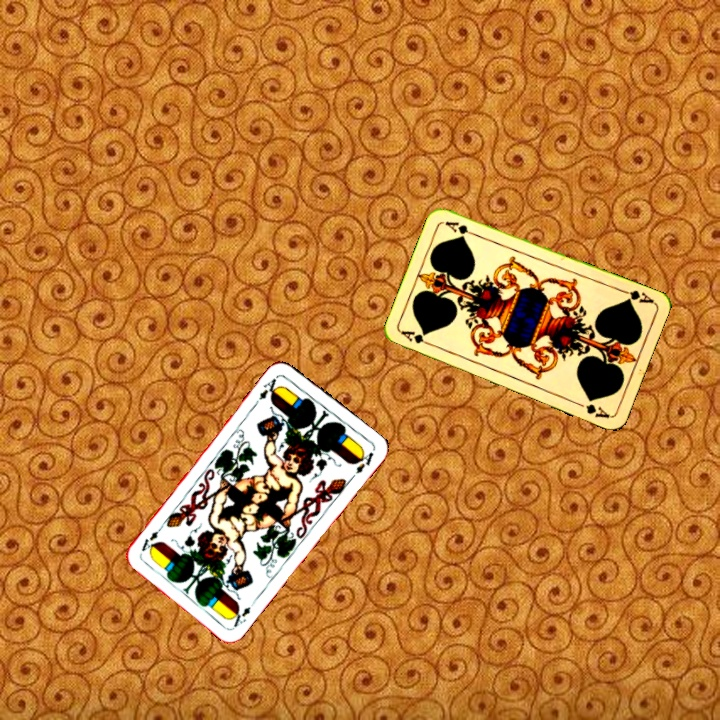EA: (226, 595, 258, 630), (255, 372, 282, 403)
GA: (397, 327, 436, 349), (616, 285, 656, 306)
